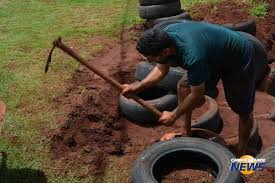tire: (134, 133, 243, 183), (150, 91, 226, 137), (118, 84, 188, 123), (133, 61, 198, 92), (137, 2, 182, 19)
